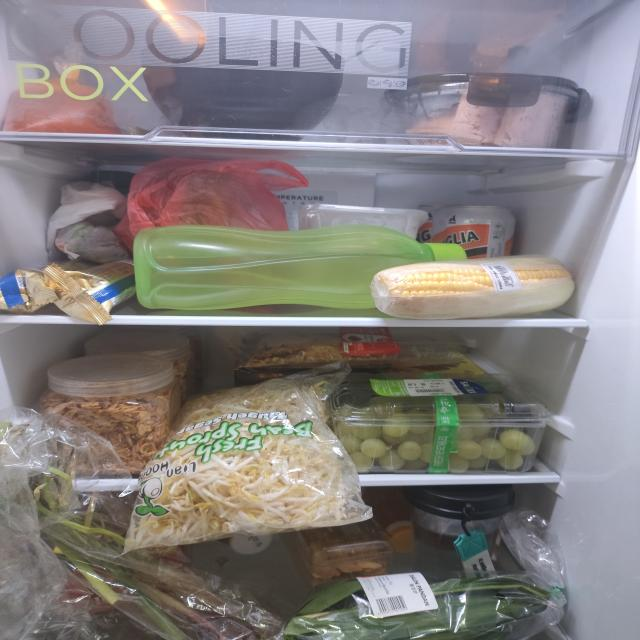bean_sprouts: (125, 380, 364, 550)
corn: (370, 253, 576, 320)
grape: (336, 394, 536, 473)
leafy_greens: (283, 575, 553, 640)
spring_onion: (0, 421, 285, 640)
